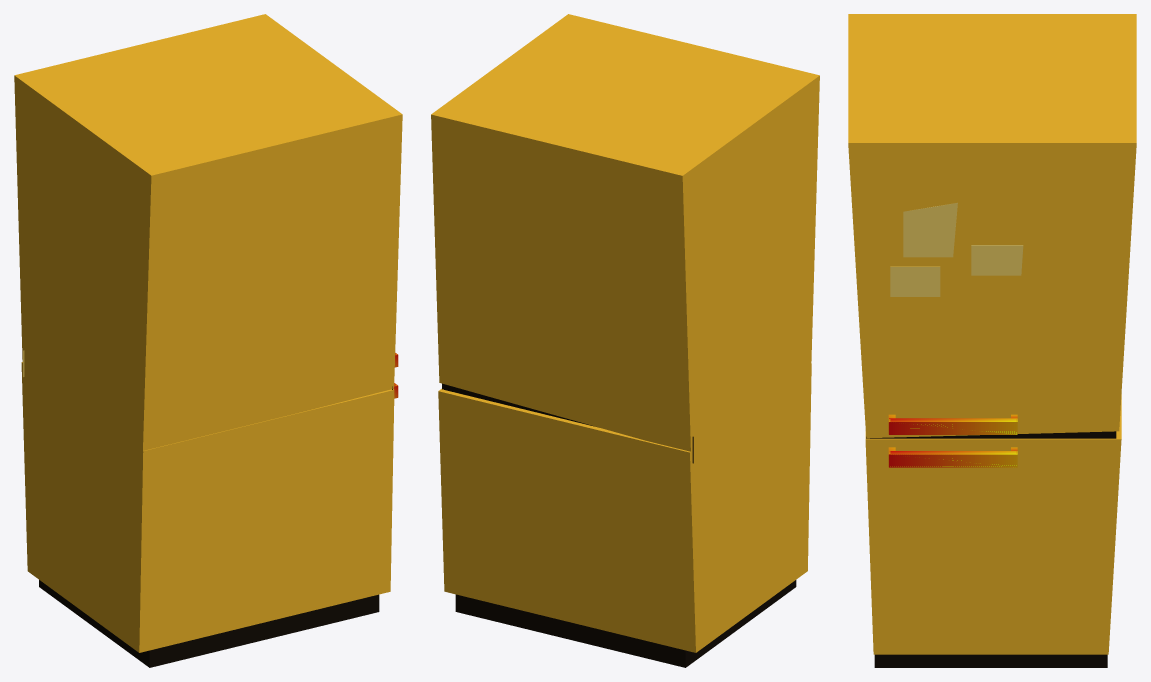
File: Refri.obj
3 renders of one model, left to right at view 1: azimuth 30°, elevation 25°; view 2: azimuth 150°, elevation 25°; view 3: azimuth 270°, elevation 25°, orthographic. The views are drawn at different scales.
Parts seen in each view (by area): view 1: Refri1:pCube13; view 2: Refri1:pCube13; view 3: Refri1:pCube13.
Boxes of the visible parts, <box> form: Refri1:pCube13: <box>14,14,402,667</box>; Refri1:pCube13: <box>431,14,819,667</box>; Refri1:pCube13: <box>848,14,1136,667</box>.
Bounding box in the file's own units: 0.8507 × 1.53 × 0.7568.
Materials: 4 (4 with a texture image).
